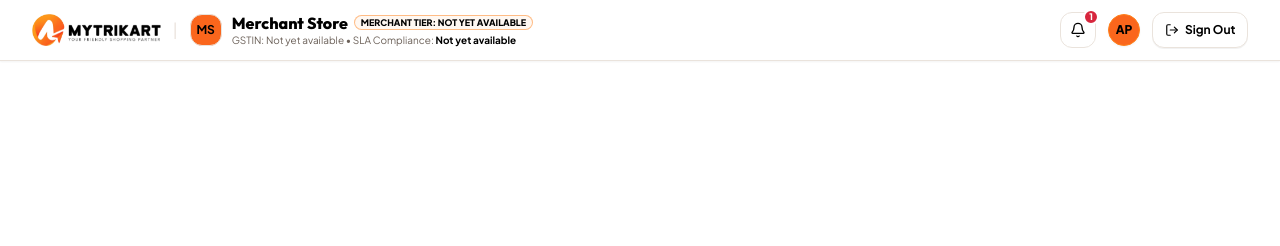
Test: SellerDashboardTopBar Alerts Wiring Suite › 3. renders new customer orders warning with badge count 1
Expected: the text "1" is shown, [1082,9,1098,25]
Expected: the text with class "animate-badge-pop" reads "1", [1089,11,1092,22]
Open dropdown
Click the button named "open notifications": (1078, 30) [1060,12,1096,48]
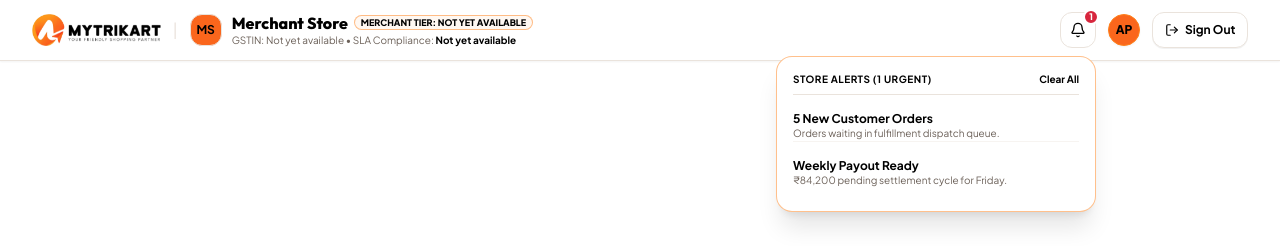
Expected: the text "Store Alerts (1 Urgent)" is shown, [792,73,931,86]
Expected: the heading "5 New Customer Orders" is shown, [792,111,932,126]
Expected: the text "Orders waiting in fulfillment dispatch queue." is shown, [792,127,999,139]
